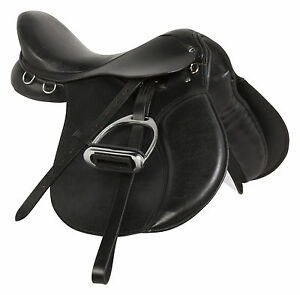saddle: (7, 4, 290, 240)
